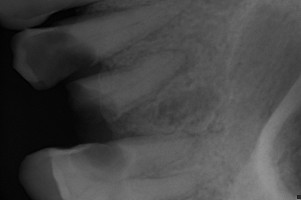Furcation Involvement: (158, 47, 199, 76)
